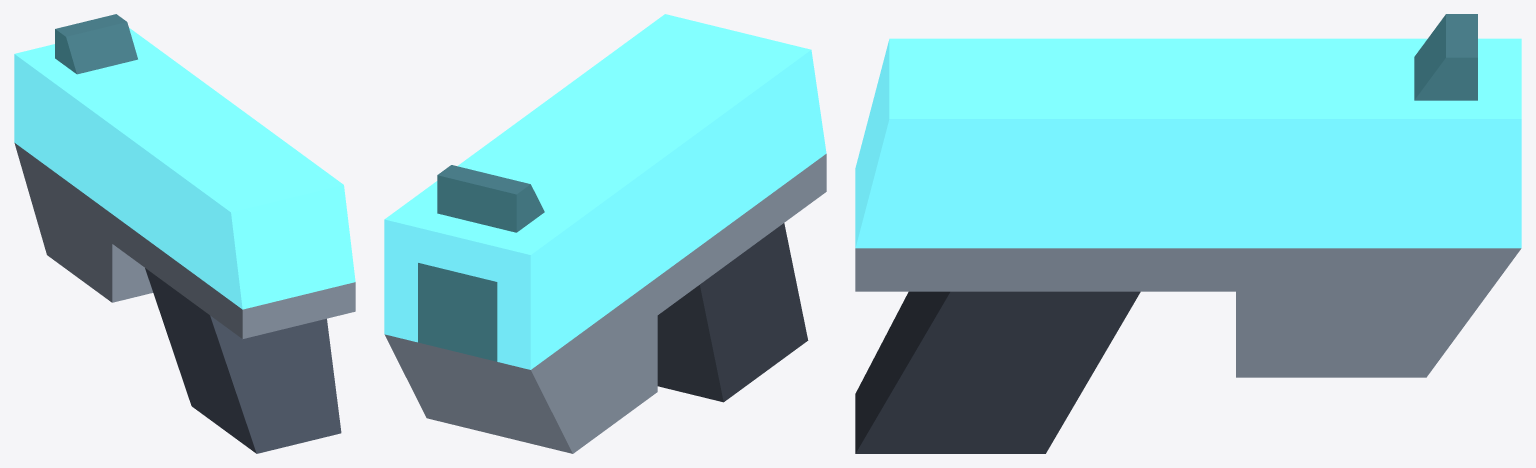
The model's file is weapon_gun.glb.
3 views of the same model, side by side, from view 1: azimuth 30°, elevation 25°; view 2: azimuth 150°, elevation 25°; view 3: azimuth 270°, elevation 25° (orthographic). The views are drawn at different scales.
Parts seen in each view (by area): view 1: weapon_gun; view 2: weapon_gun; view 3: weapon_gun.
Part boxes in pixels (x1,y1,x2,y2): weapon_gun: (14, 14, 355, 453); weapon_gun: (384, 14, 826, 453); weapon_gun: (855, 14, 1521, 453).
Size of the model in its own units: 0.1 by 0.225 by 0.35.
